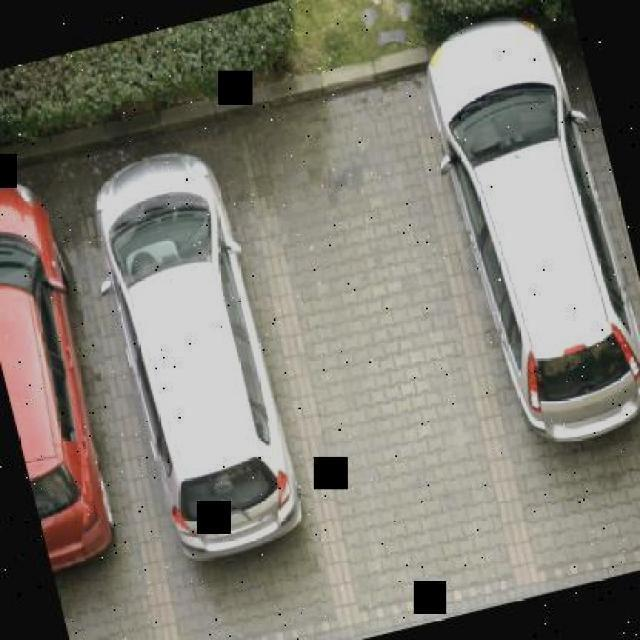empty: (249, 80, 523, 606)
occupied: (84, 141, 329, 614), (411, 0, 640, 480), (0, 164, 132, 584)
